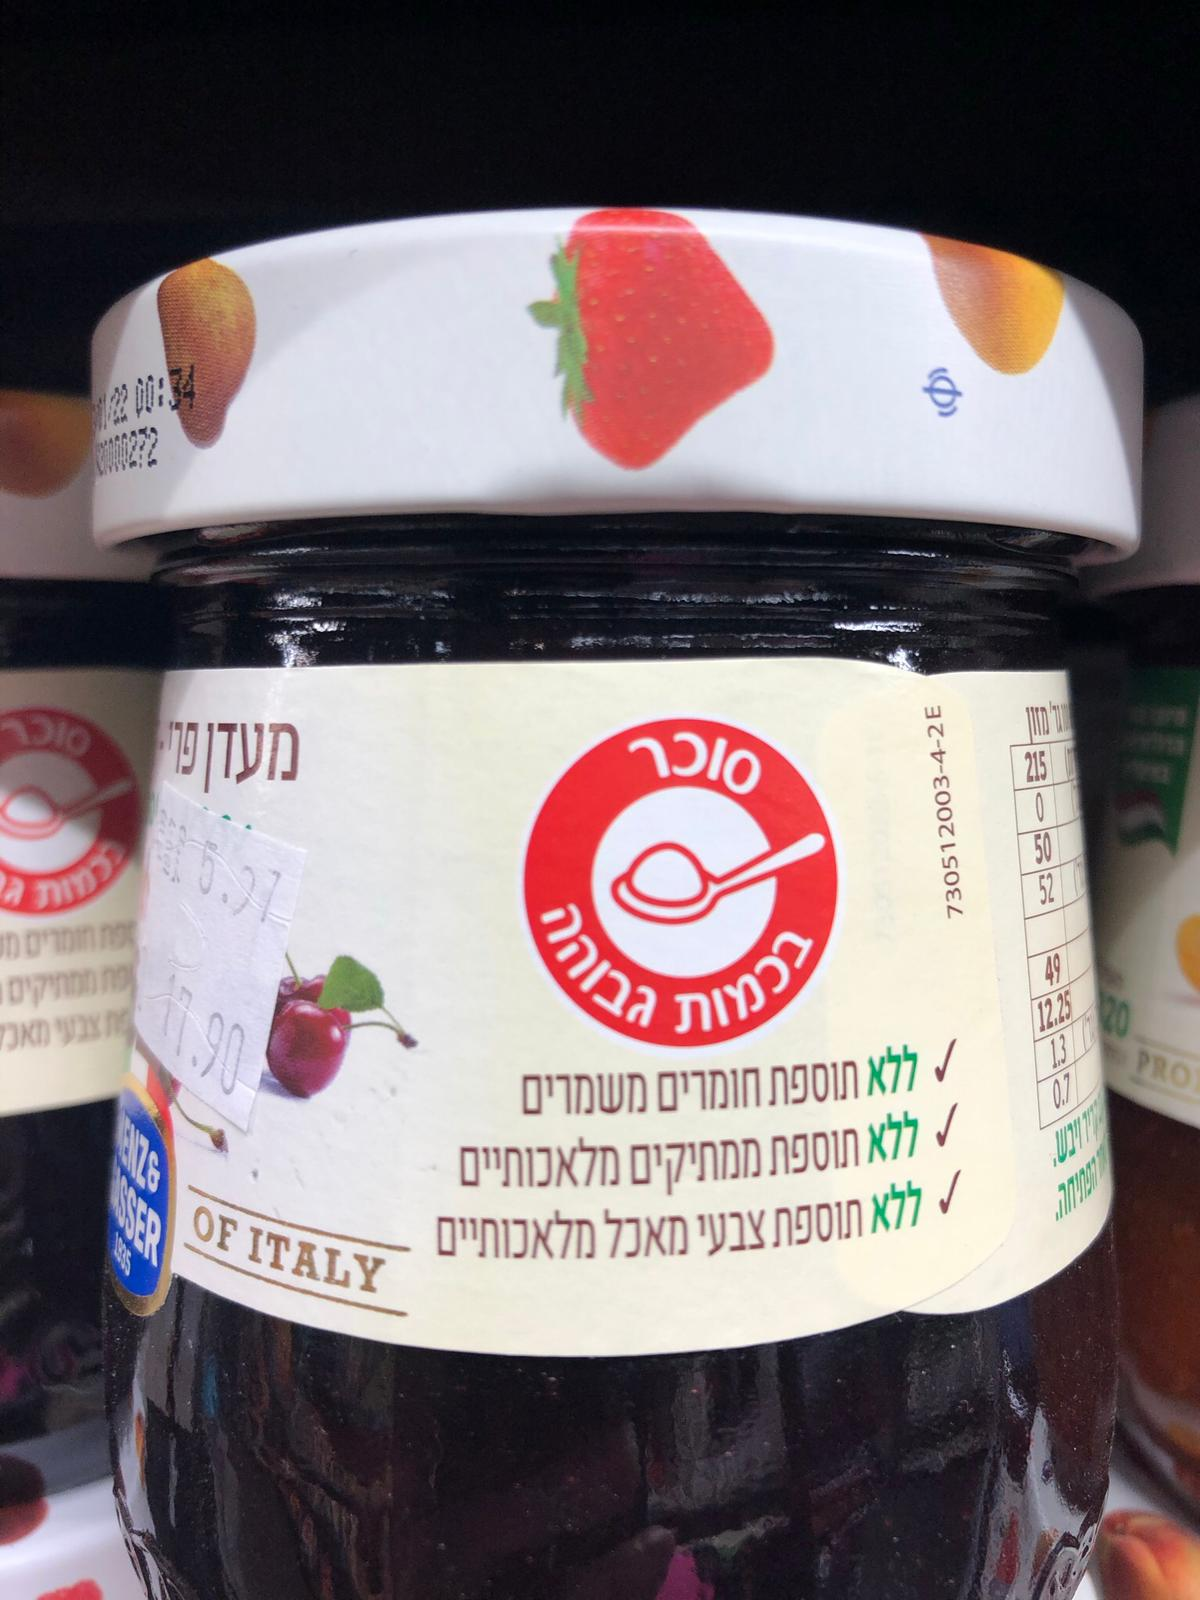sugar: (517, 713, 846, 1051)
